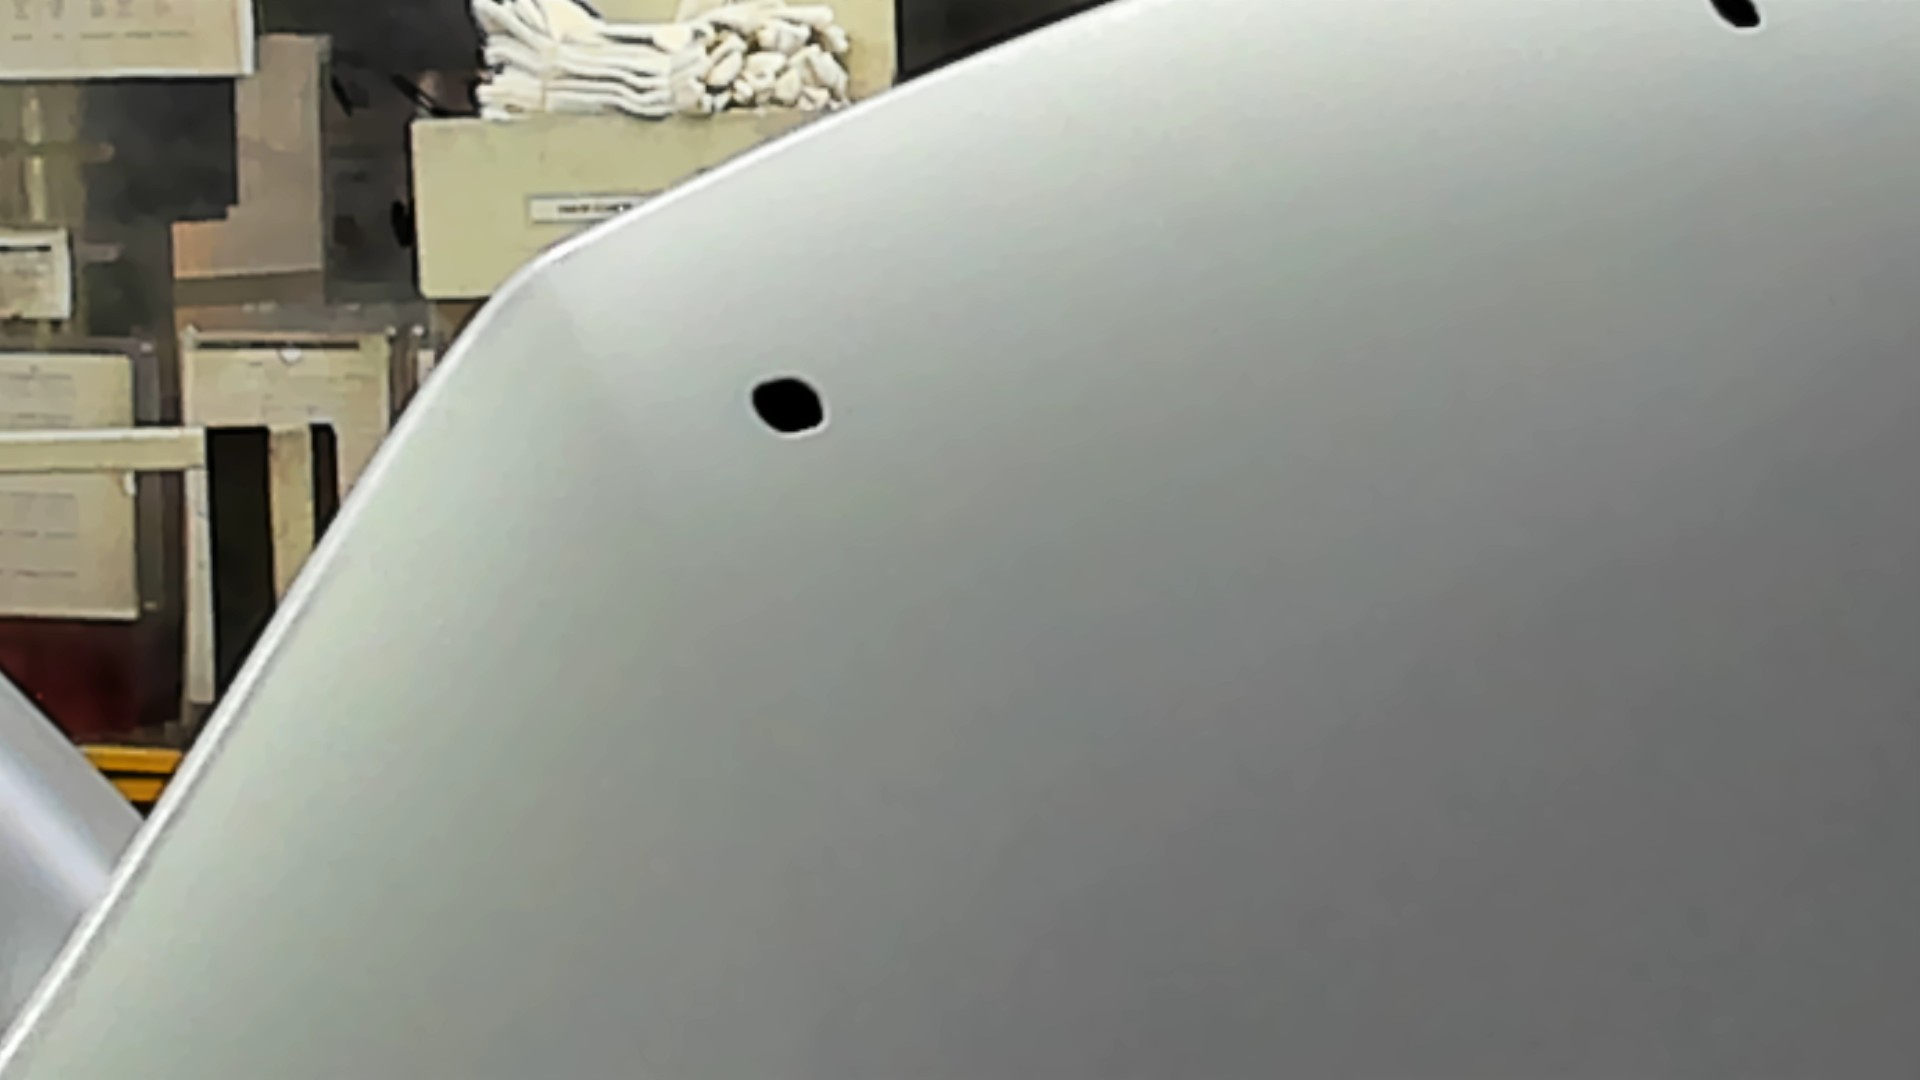amorfo: (746, 371, 832, 444), (1702, 1, 1768, 36)
